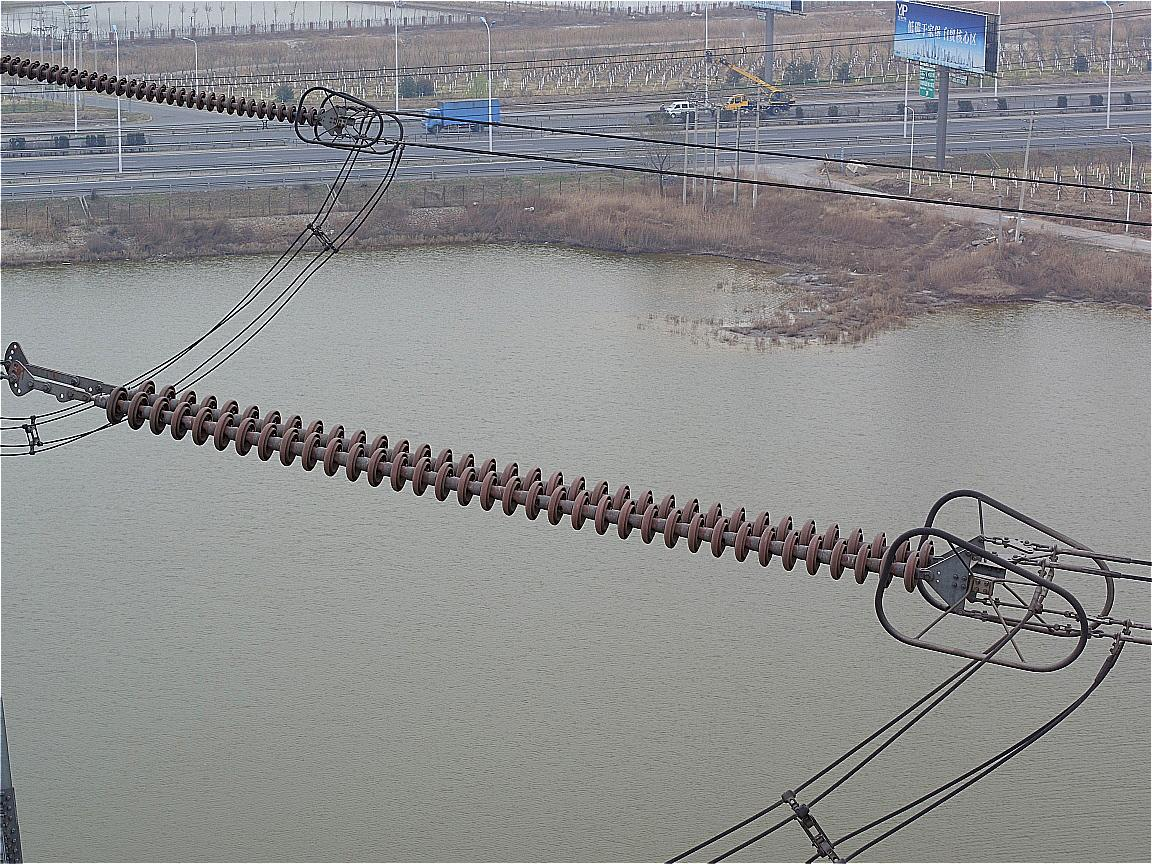insultor1: (107, 377, 934, 591), (2, 51, 327, 127)
